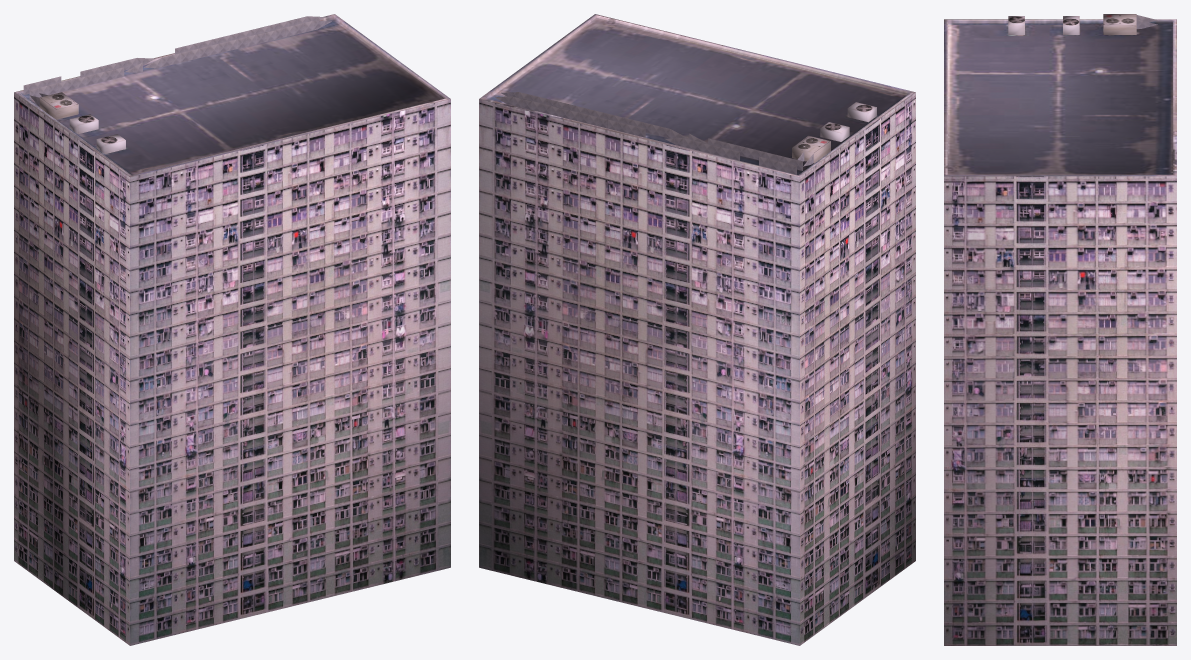
File: building1Low.obj
3 views of the same model, side by side, from view 1: azimuth 30°, elevation 25°; view 2: azimuth 150°, elevation 25°; view 3: azimuth 270°, elevation 25° (orthographic).
Size of the model in its own units: 44.76 by 63.54 by 28.06.
Materials: 1 (1 with a texture image).
